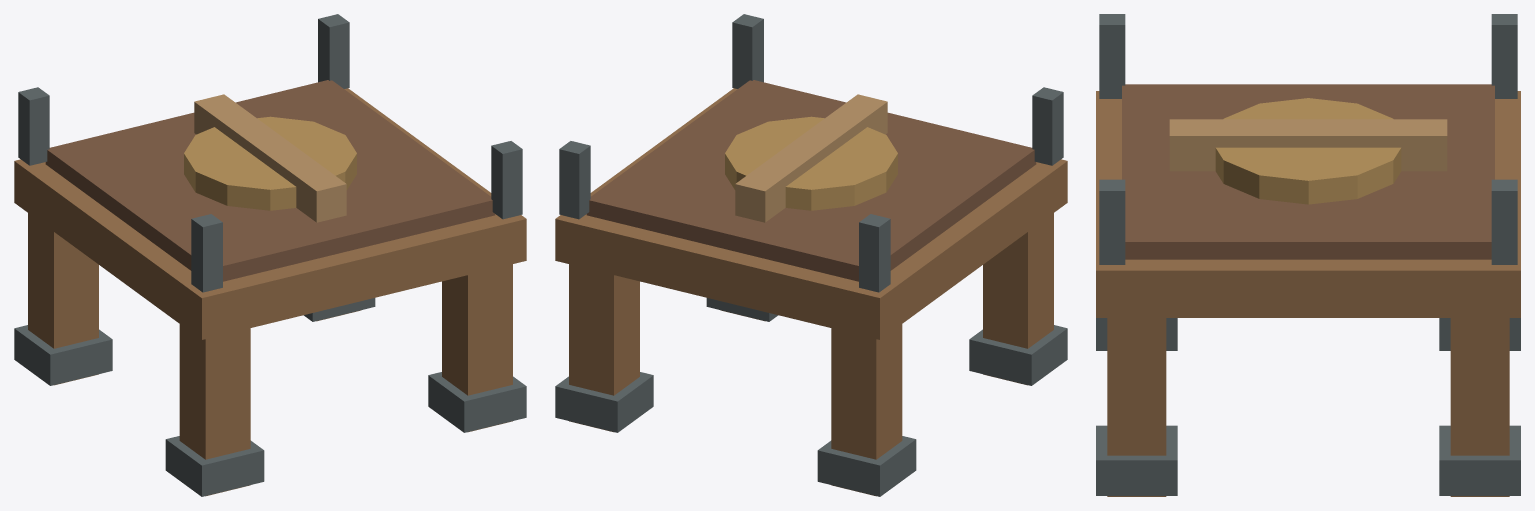
The model's file is vf_splitter.glb.
The picture shows the model from 3 angles, left to right: view 1: azimuth 30°, elevation 25°; view 2: azimuth 150°, elevation 25°; view 3: azimuth 270°, elevation 25°; orthographic projection. The views are drawn at different scales.
Visible parts, largest first — view 1: Static, Selector; view 2: Static, Selector; view 3: Static, Selector.
Part boxes in pixels (bbox=[...]): Static: bbox=[14, 14, 526, 496]; Selector: bbox=[184, 94, 356, 222]; Static: bbox=[555, 14, 1067, 496]; Selector: bbox=[725, 94, 897, 222]; Static: bbox=[1096, 14, 1520, 496]; Selector: bbox=[1169, 98, 1447, 204].
Size of the model in its own units: 1.3 by 1.04 by 1.3.
